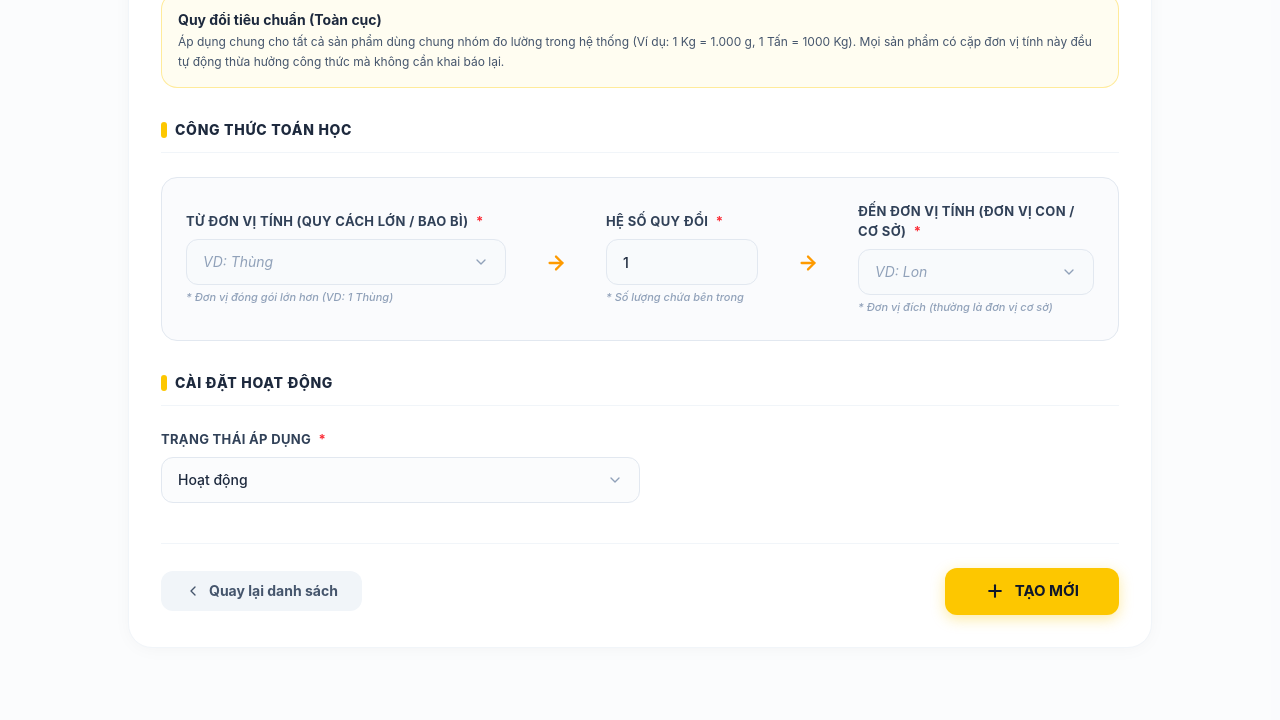
Test: Module 02 - UoMConversionForm Component › TC02 - Báo lỗi validation khi chưa chọn ĐVT nguồn và ĐVT đích
(page scrolled)
Click the button "TẠO MỚI". click: (1032, 591)
box: [945, 568, 1119, 614]
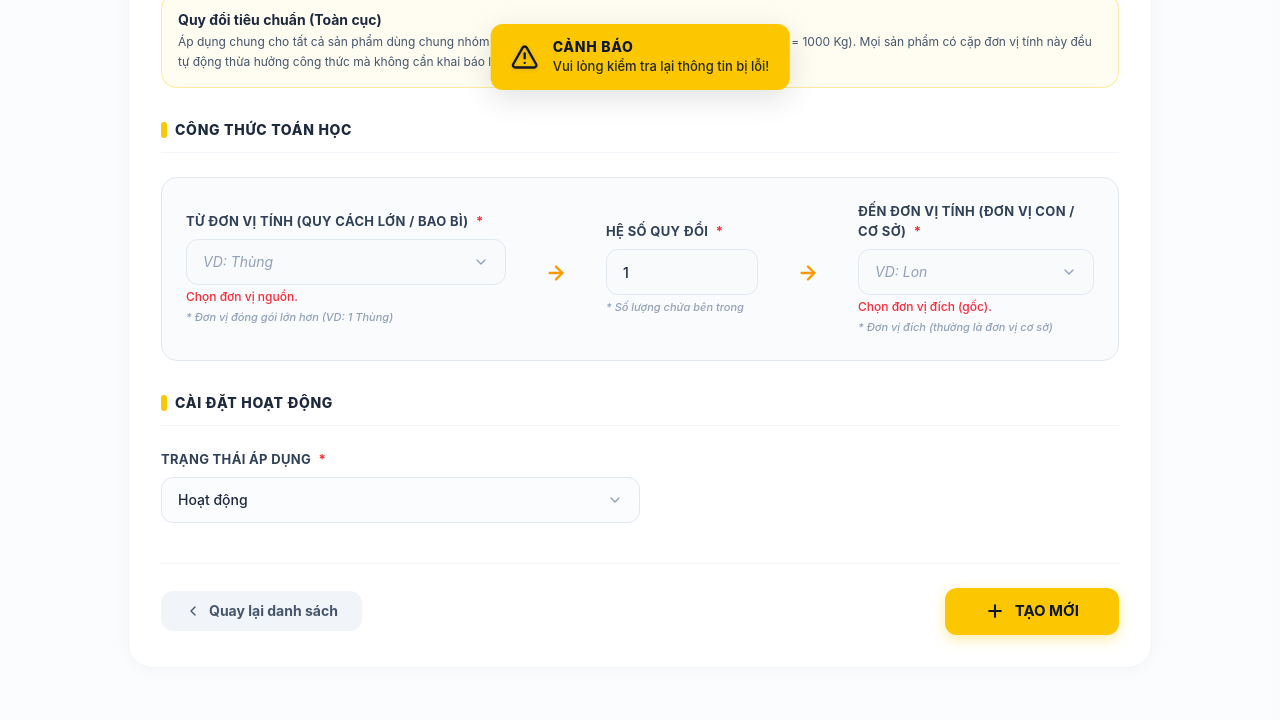
Expected: the text "Chọn đơn vị nguồn." is shown, [186, 289, 298, 304]
Expected: the text "Chọn đơn vị đích (gốc)." is shown, [858, 299, 992, 314]
